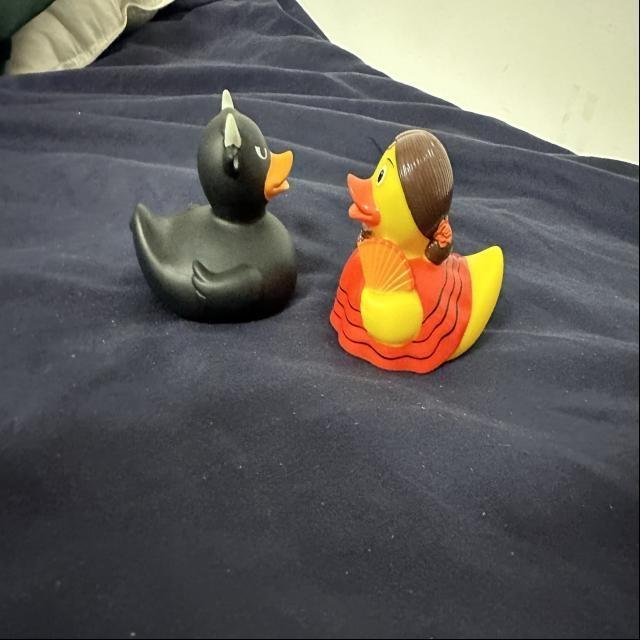rubber-duck: (329, 128, 502, 371), (130, 89, 295, 320)
